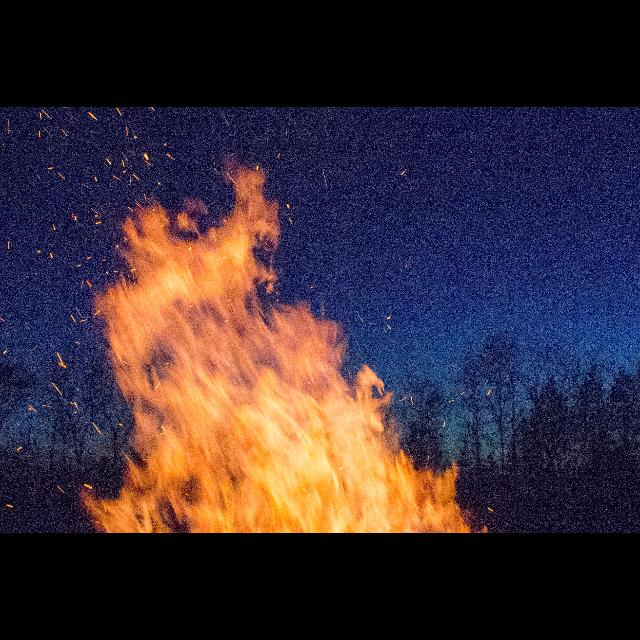fire: (85, 169, 479, 534)
